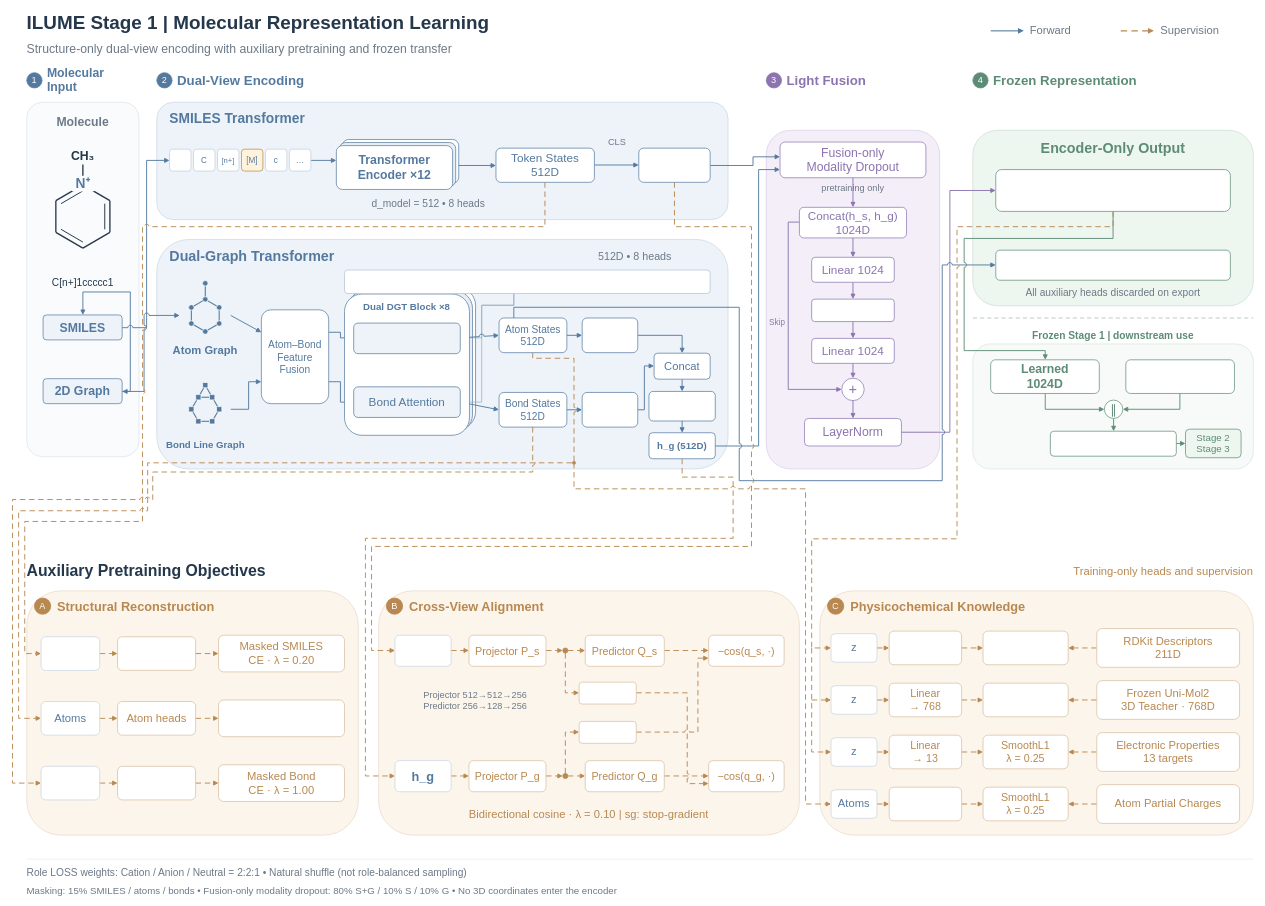
The diagram is 1265 pixels wide and 906 high, and some of its shapes have lost their labels. The shapes that lost their labels are listed below. From the top down, each one's centre as x and y in pixels, then its label:
the point at 180,160: [CLS]
the point at 674,165: h_s 512D
the point at 1112,190: Learned Molecular Embedding z 1024D
the point at 527,281: Pair Type + Shortest-Path Distance + Ring Relation
the point at 1112,265: Atom States · 512D
the point at 852,310: GELU
the point at 406,338: Atom Attention
the point at 610,335: Atom Mean Pool
the point at 1180,376: Standardized RDKit 211D
the point at 610,409: Bond Mean Pool
the point at 681,406: Linear 1024→512
the point at 1113,443: Entity · 1235D
the point at 70,653: Tokens
the point at 156,653: MLM head
the point at 422,650: h_s
the point at 925,648: Linear → 211
the point at 1025,648: MSE λ = 0.25
the point at 607,693: sg(p_s)
the point at 1025,700: Cosine λ = 0.50
the point at 281,718: Masked Atom CE · λ = 1.00
the point at 607,732: sg(p_g)
the point at 70,783: Bonds
the point at 156,783: Bond heads
the point at 925,804: Linear → 1
